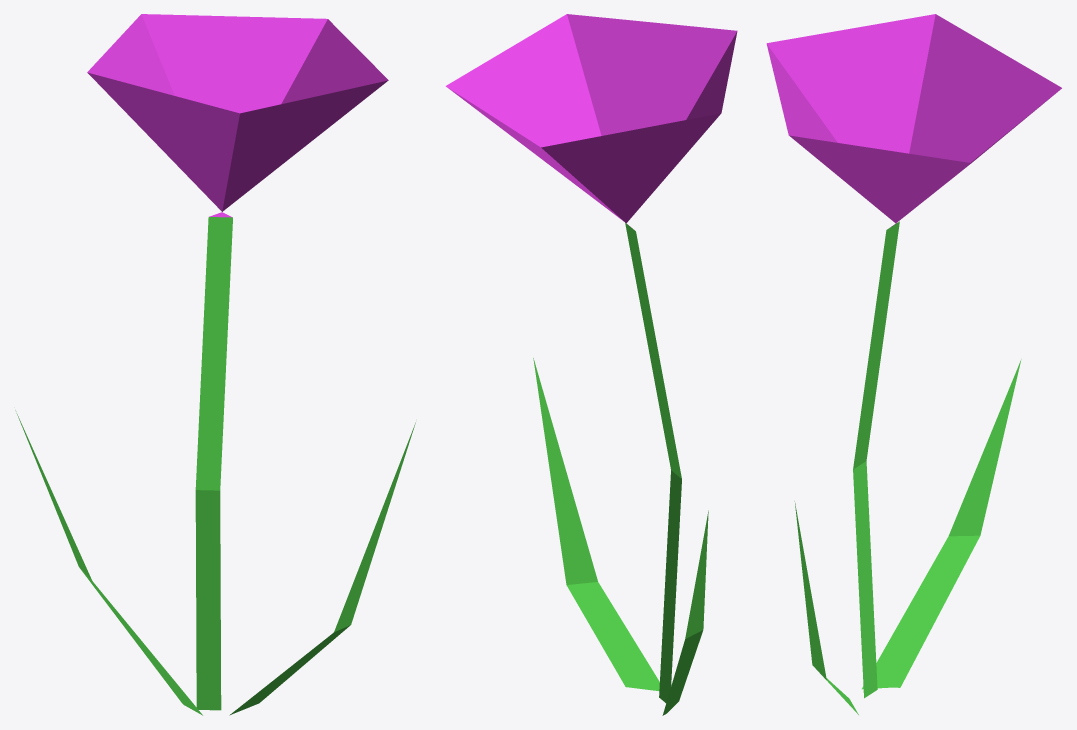
Rendered from Flower1.fbx.
The picture shows the model from 3 angles, left to right: view 1: azimuth 30°, elevation 25°; view 2: azimuth 150°, elevation 25°; view 3: azimuth 270°, elevation 25°; orthographic projection.
Parts seen in each view (by area): view 1: Plane; view 2: Plane; view 3: Plane.
Part boxes in pixels (<box>): Plane: <box>15,14,415,715</box>; Plane: <box>445,14,737,715</box>; Plane: <box>766,14,1061,714</box>.
Bounding box in the file's own units: 240 × 506 × 212.
